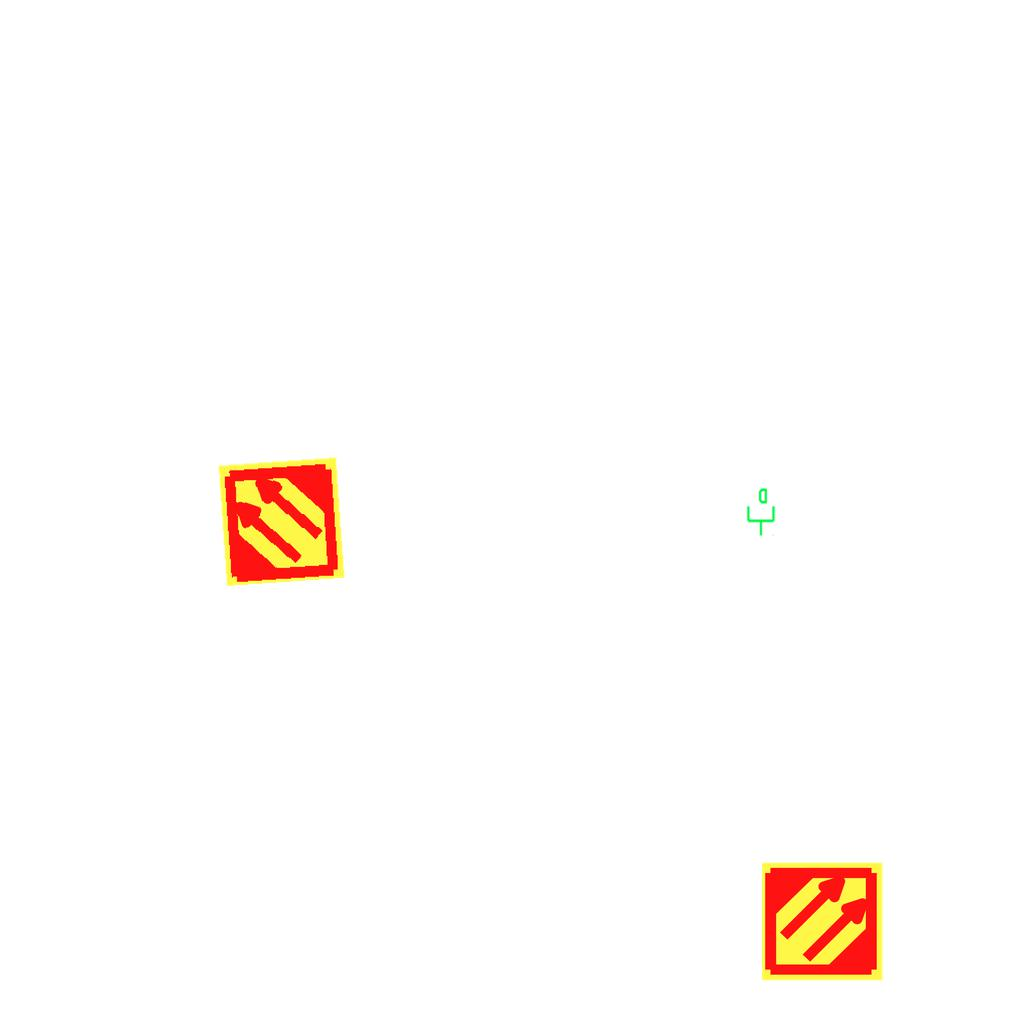ASR_Ansaugrauchmelder: (214, 454, 349, 589), (760, 859, 885, 984)
Datenanschluss_einfach: (743, 487, 777, 537)
